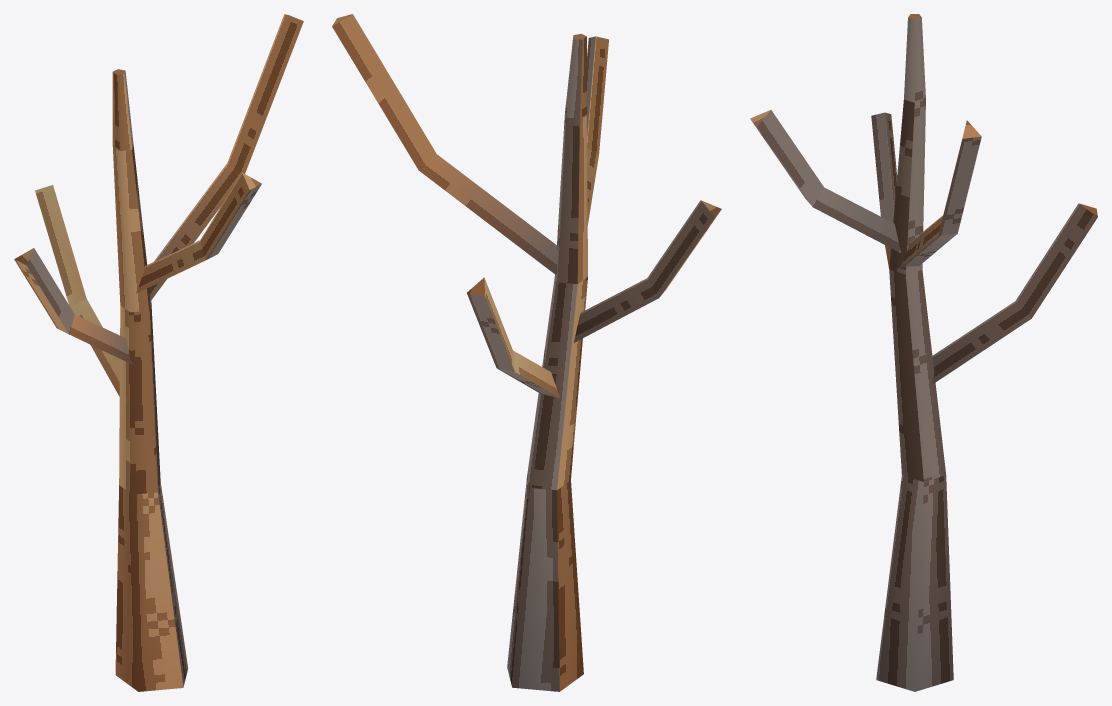
Rendered from wland.dead_tree.glb.
3 renders of one model, left to right at view 1: azimuth 30°, elevation 25°; view 2: azimuth 150°, elevation 25°; view 3: azimuth 270°, elevation 25°, orthographic. The views are drawn at different scales.
Parts seen in each view (by area): view 1: kit_trunk, kit_branches; view 2: kit_trunk, kit_branches; view 3: kit_trunk, kit_branches.
Part boxes in pixels (bbox=[...]): kit_trunk: bbox=[112, 69, 188, 691]; kit_branches: bbox=[14, 14, 303, 396]; kit_trunk: bbox=[507, 34, 587, 691]; kit_branches: bbox=[332, 14, 721, 398]; kit_trunk: bbox=[876, 14, 953, 691]; kit_branches: bbox=[750, 110, 1097, 384].
Bounding box in the file's own units: 2.14 × 3.88 × 1.91.
Materials: 1 (1 with a texture image).
